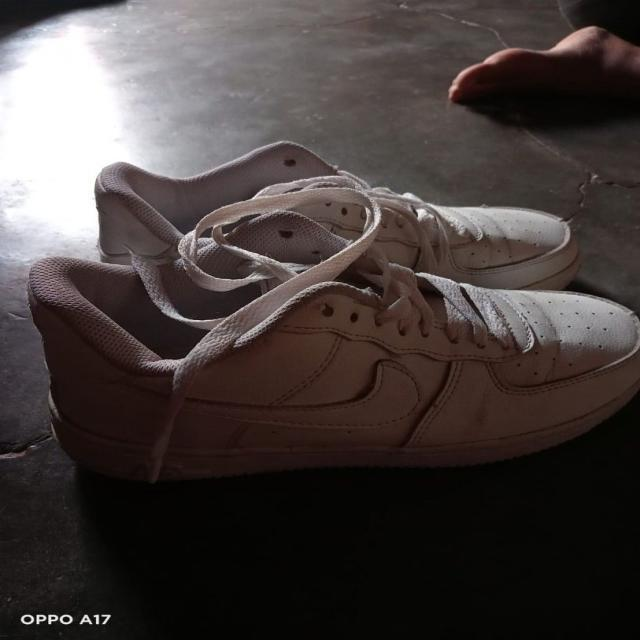nike fake air force: (18, 256, 640, 473), (97, 139, 586, 319)
